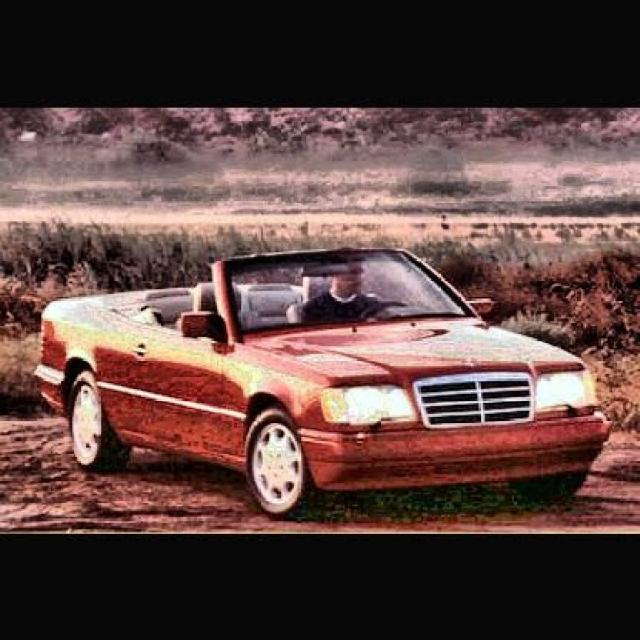red: (40, 246, 608, 516)
